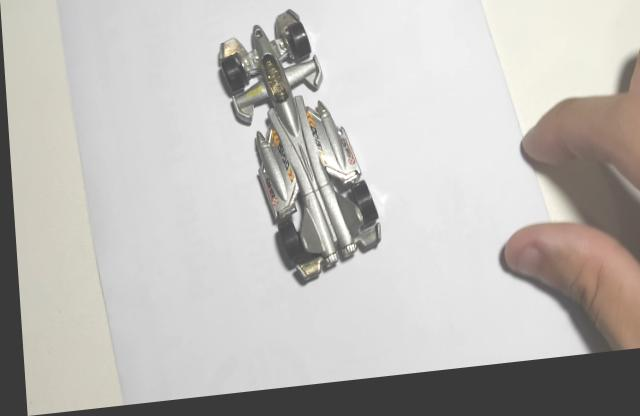05_DC121: (214, 17, 379, 293)
